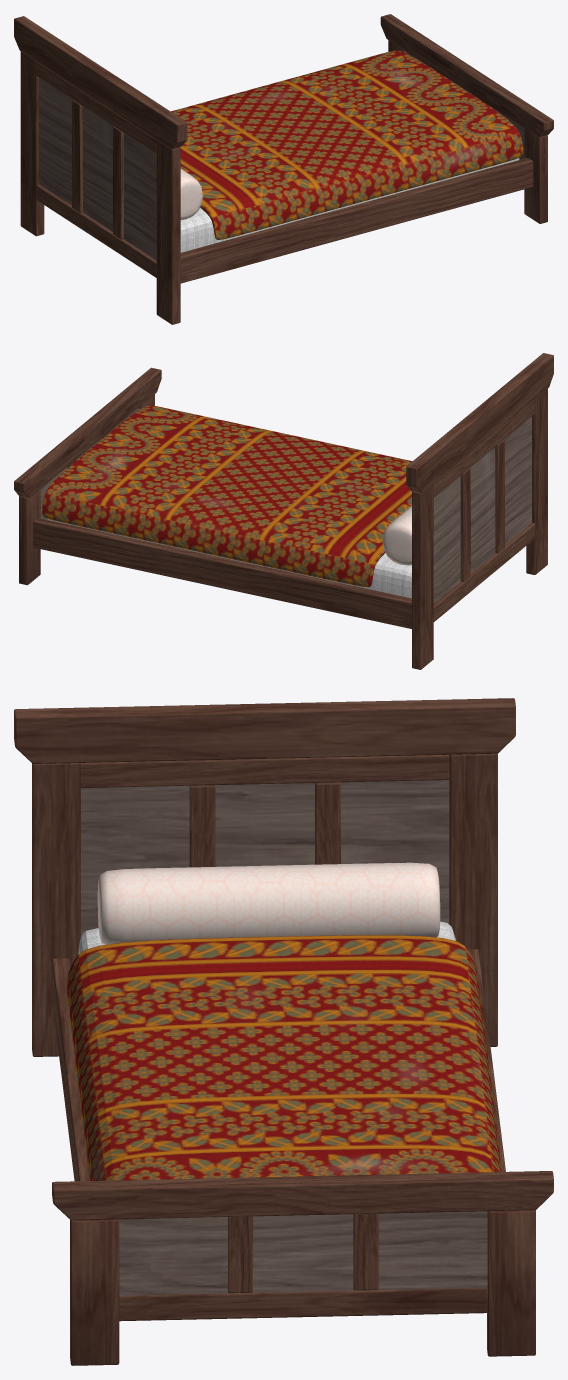
File: Bed.fbx
3 views of the same model, one above another, from view 1: azimuth 30°, elevation 25°; view 2: azimuth 150°, elevation 25°; view 3: azimuth 270°, elevation 25° (orthographic). The views are drawn at different scales.
Visible parts, largest first — view 1: Cube.015; view 2: Cube.015; view 3: Cube.015.
Boxes of the visible parts, bbox=[...] form: Cube.015: bbox=[14, 14, 553, 324]; Cube.015: bbox=[14, 353, 553, 669]; Cube.015: bbox=[14, 698, 553, 1365].
Bounding box in the file's own units: 473 × 230 × 329.
